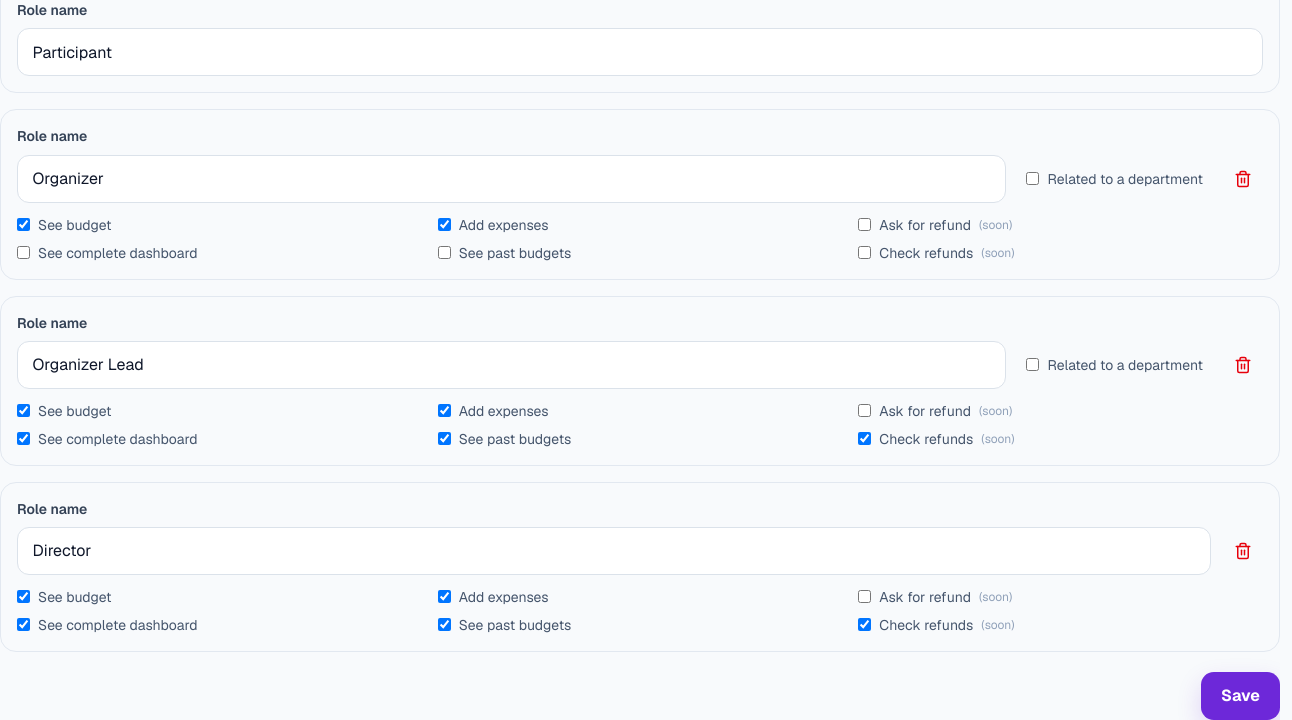
Scenario: RoleSettingsForm › shows an error returned from the action
The image size is (1292, 720).
(page scrolled)
Click the button "Save" at (1241, 696), box [1201,672,1280,719]
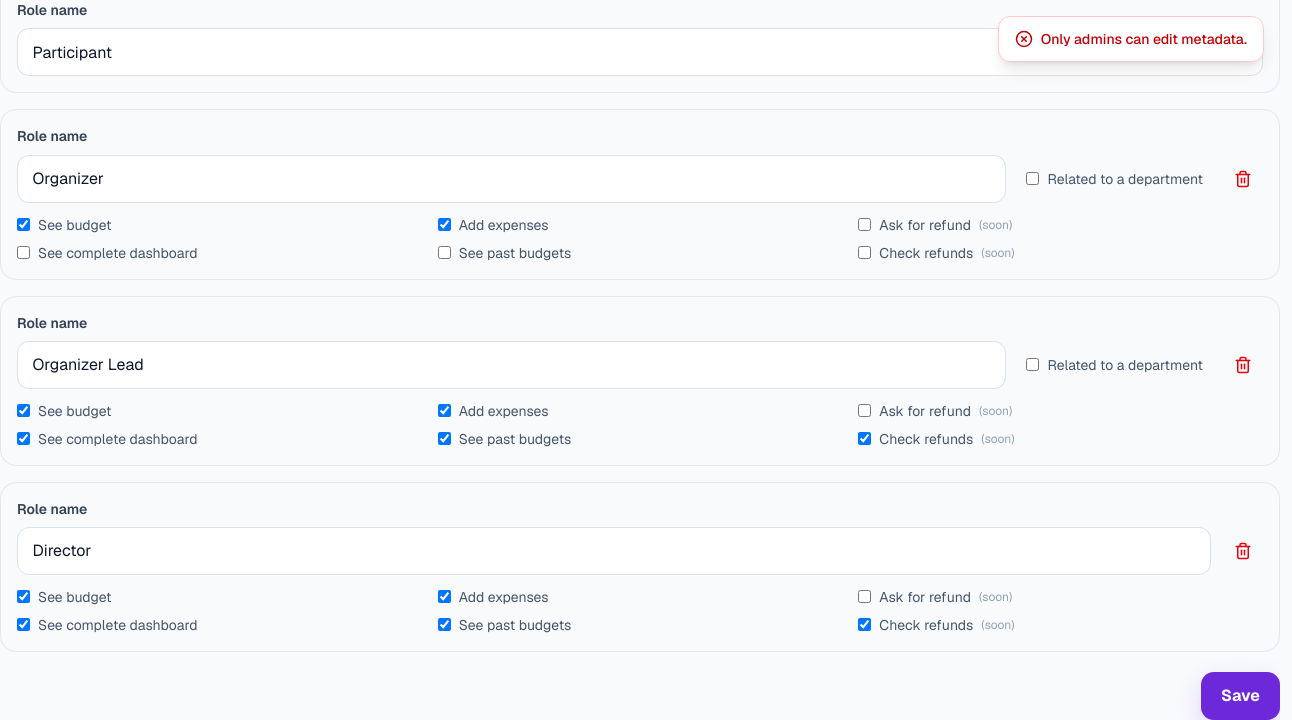
Now the message reads "Only admins can edit metadata.", box [1041,30,1247,48]
